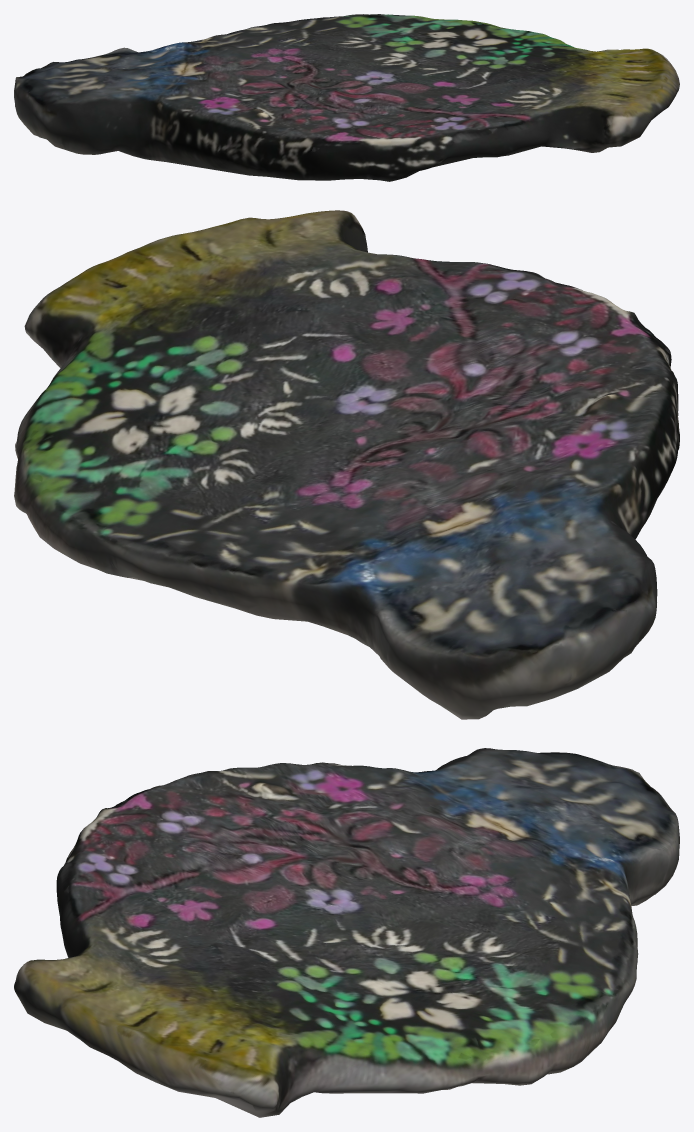
The picture shows the model from 3 angles, top to bottom: view 1: azimuth 30°, elevation 25°; view 2: azimuth 150°, elevation 25°; view 3: azimuth 270°, elevation 25°; orthographic projection. The views are drawn at different scales.
Size of the model in its own units: 0.5947 by 0.1182 by 0.4906.
Materials: 1 (1 with a texture image).
